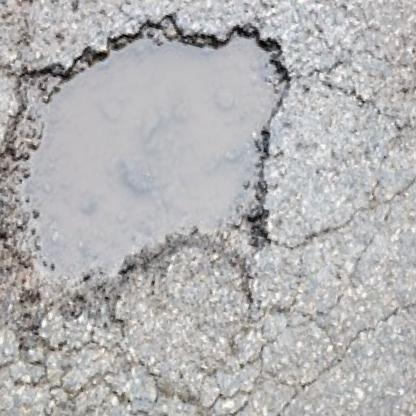pothole: (0, 0, 324, 392)
